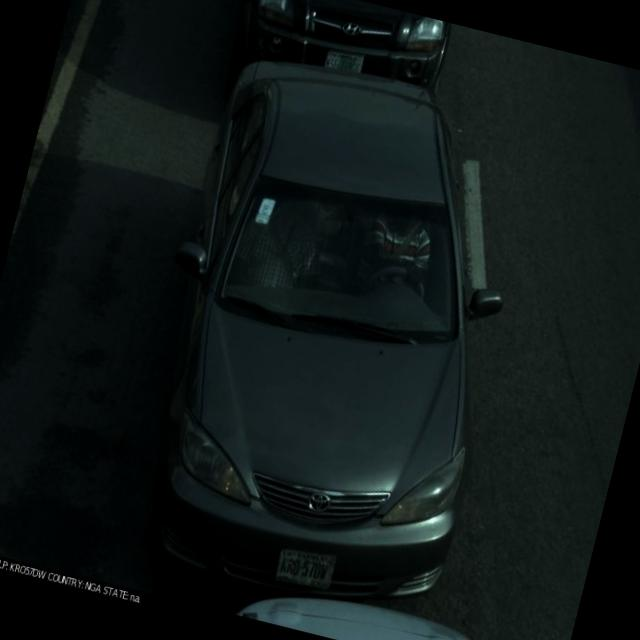person_with_seatbelt: (342, 198, 447, 327)
